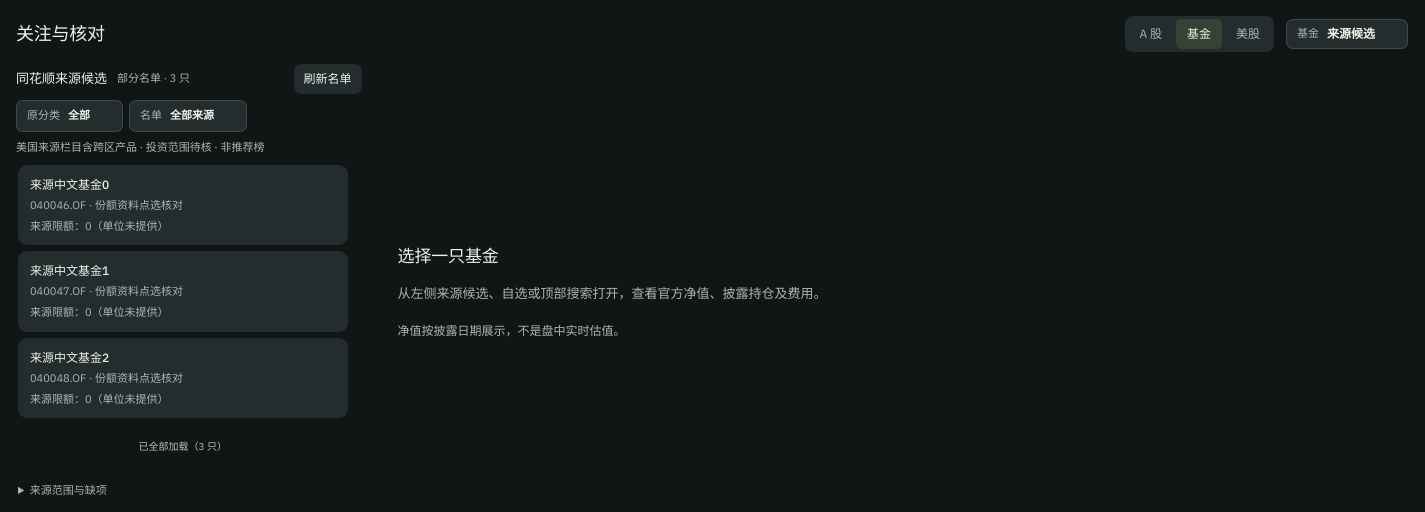
Test: 基金来源候选与按需详情 › 重复来源分类只出现一个菜单选项，合并同代码归属且不重复取源
expect the text "来源中文基金0" is shown: met, box top-left (30, 177), bottom-right (109, 192)
Press ArrowDown in the button with aria-label "原分类：全部", box top-left (16, 100), bottom-right (123, 132)
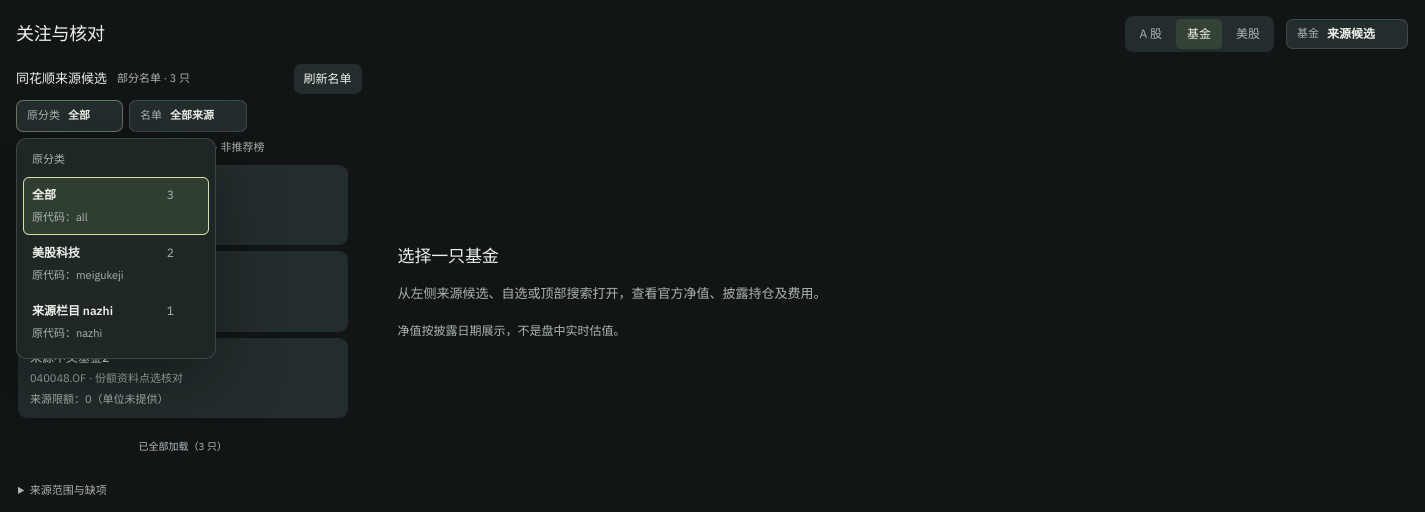
expect the number of menu items "美股科技 原代码：meigukeji 2" is 1: met
Click the menu item "美股科技 原代码：meigukeji 2" at (56, 253), box top-left (32, 245), bottom-right (174, 282)
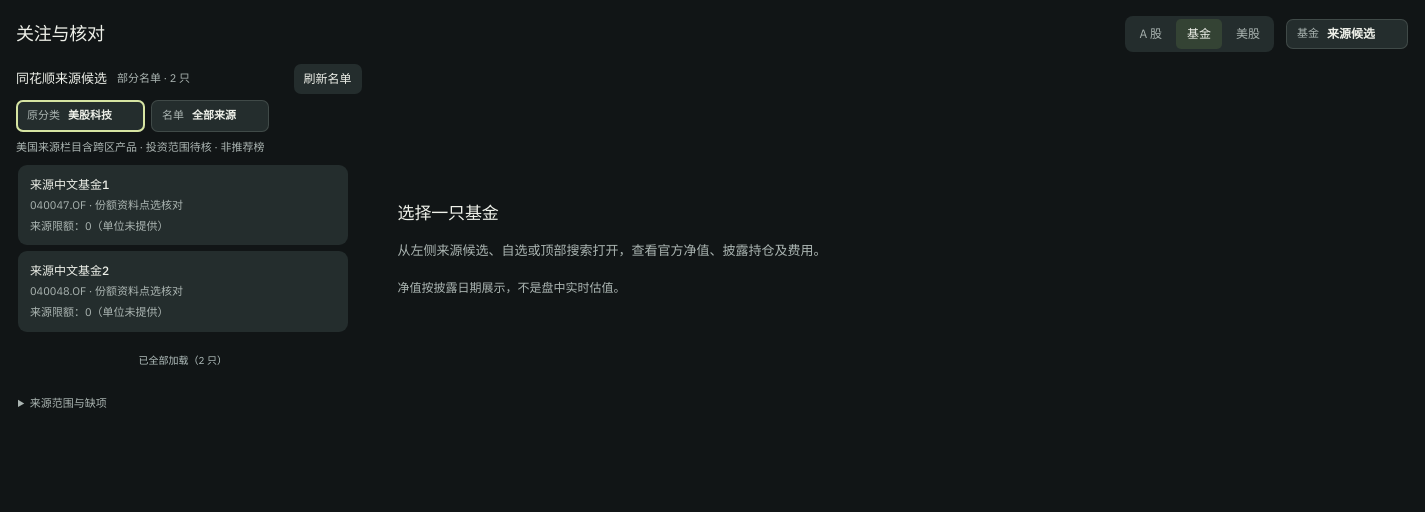
expect the text "来源中文基金1" is shown: met, box top-left (30, 177), bottom-right (109, 192)
expect the menu is gone: met
expect the button "来源中文基金0" is gone: met
